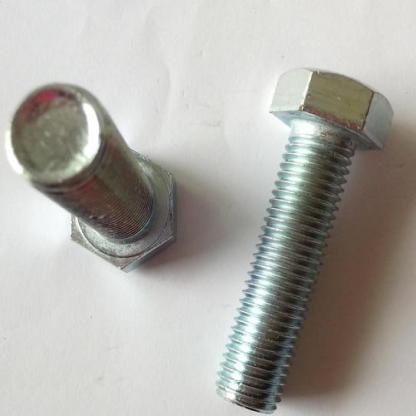FOD: (212, 66, 396, 414), (4, 81, 179, 275)
